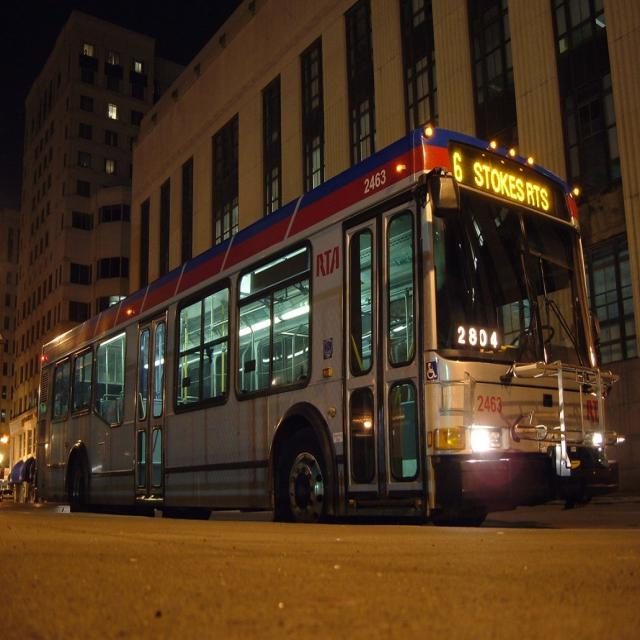Bus: (37, 111, 617, 519)
